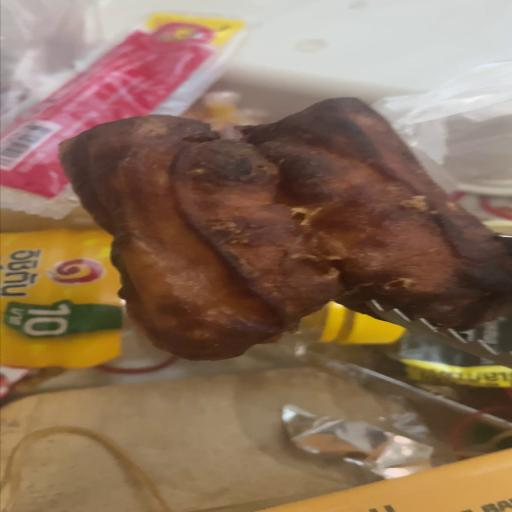street_burnt_defect: (60, 98, 512, 360)
